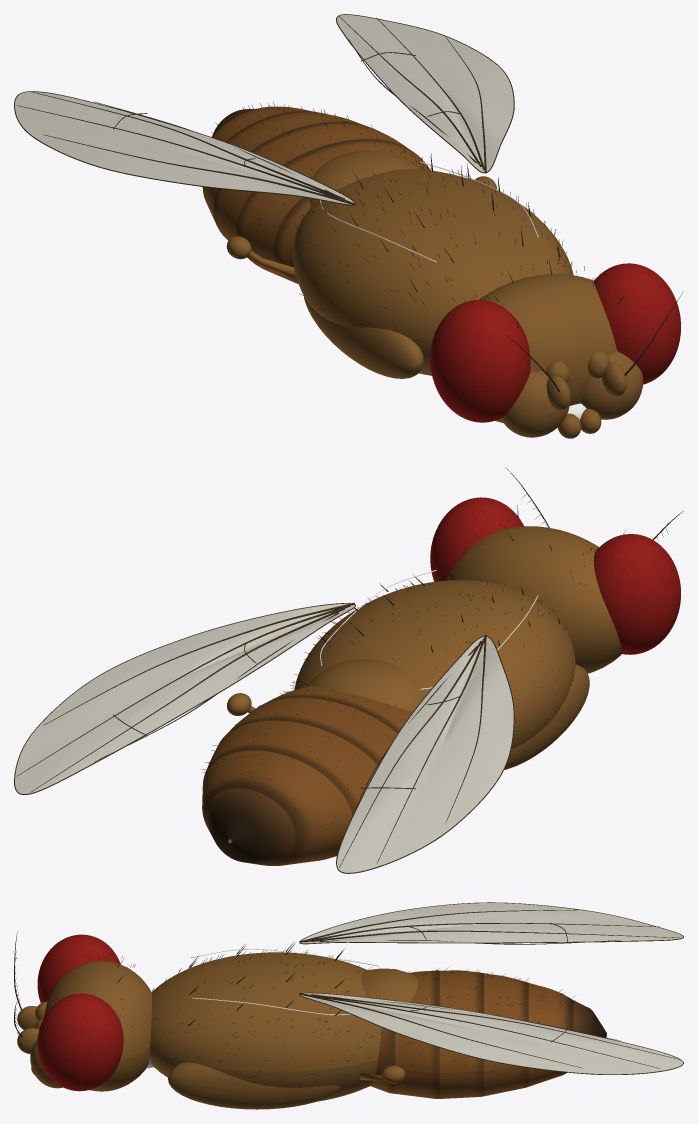
File: FlyVisual_Realism.fbx
3 views of the same model, one above another, from view 1: azimuth 30°, elevation 25°; view 2: azimuth 150°, elevation 25°; view 3: azimuth 270°, elevation 25° (orthographic). The views are drawn at different scales.
Visible parts, largest first — view 1: ChitinGold, WingMembrane, EyeRuby, WingVein, Bristle; view 2: ChitinGold, WingMembrane, EyeRuby, WingVein, Bristle; view 3: ChitinGold, WingMembrane, EyeRuby, WingVein, Bristle, AbdomenDark.
Boxes of the visible parts, box(x1,y1,x2,y2) form: ChitinGold: box(202, 106, 643, 438); WingMembrane: box(15, 14, 513, 204); EyeRuby: box(430, 263, 680, 422); WingVein: box(14, 14, 514, 205); Bristle: box(209, 102, 683, 391); ChitinGold: box(202, 526, 621, 865); WingMembrane: box(15, 603, 513, 872); EyeRuby: box(430, 497, 680, 654); WingVein: box(14, 602, 514, 873); Bristle: box(202, 467, 683, 829); ChitinGold: box(17, 952, 606, 1109); WingMembrane: box(300, 903, 682, 1074); EyeRuby: box(37, 934, 123, 1091); WingVein: box(299, 902, 683, 1074); Bristle: box(14, 931, 575, 1083); AbdomenDark: box(147, 948, 379, 1068).
Bounding box in the file's own units: 229 × 87.78 × 395.
6 materials, 3 textured.
